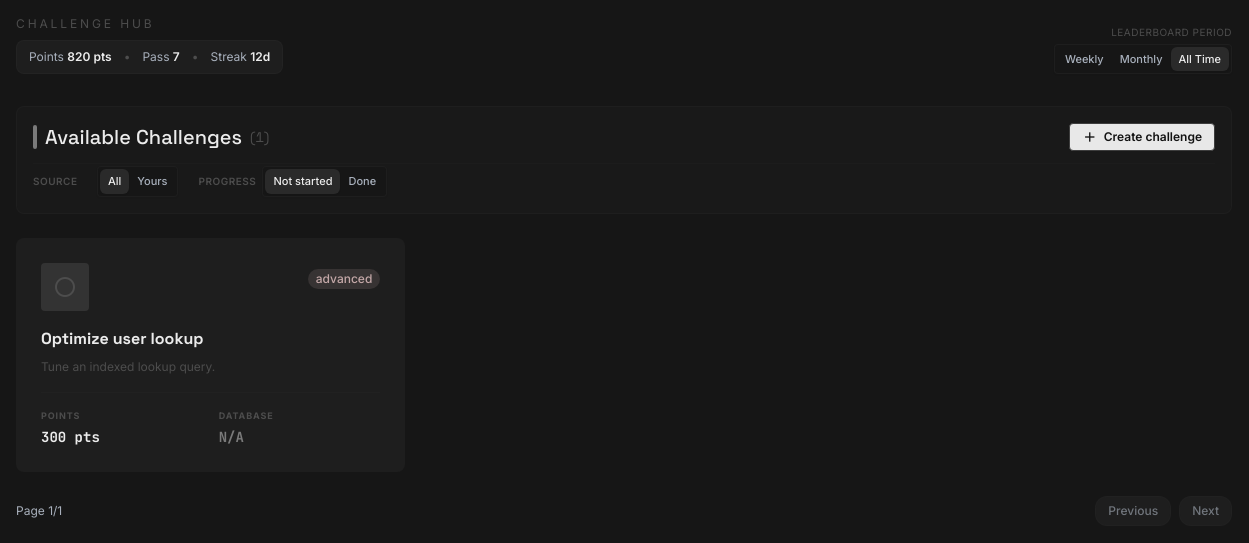
Test: LeaderboardPage › renders personalized leaderboard stats and challenge list
Expected: the heading "Available Challenges (1)" is shown, left=33, top=123, right=269, bottom=151
Expected: the text "Challenge hub" is shown, left=16, top=16, right=154, bottom=31
Note: Default tab is "Not started", so passed challenges are hidden until switching.
Click the button "Done": x=362, y=181 left=340, top=169, right=384, bottom=194
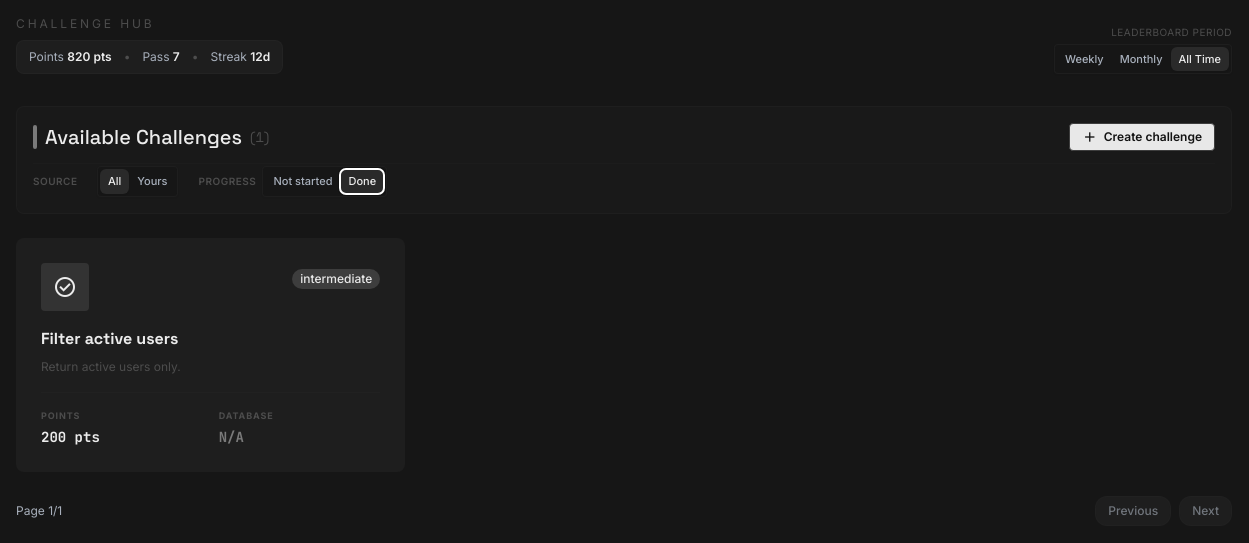
Result: the heading "Filter active users" is shown at left=41, top=328, right=178, bottom=348
Click the button "Monthly": x=1141, y=59 left=1112, top=46, right=1170, bottom=71
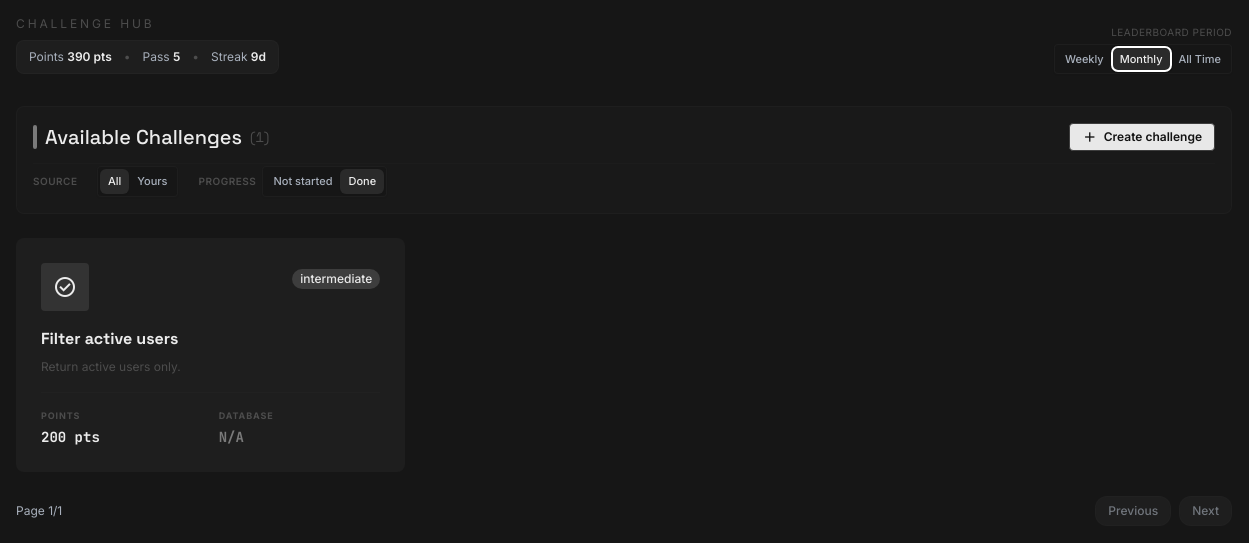
Result: the text "390 pts" is shown at left=67, top=49, right=112, bottom=64
Result: the text "5" is shown at left=173, top=49, right=180, bottom=64
Result: the text "9d" is shown at left=251, top=49, right=266, bottom=64
